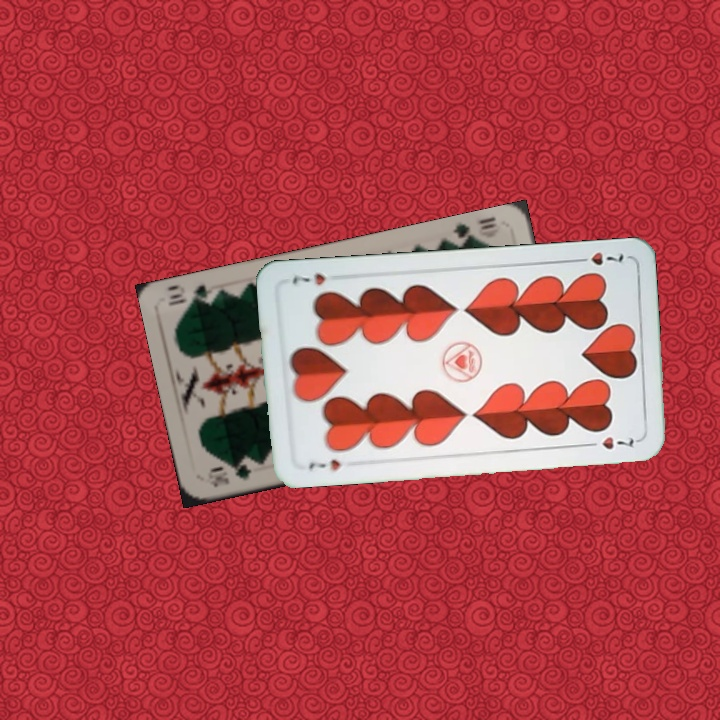G10: (448, 213, 499, 249), (203, 459, 254, 490)
H7: (570, 248, 626, 268), (305, 455, 343, 473)
